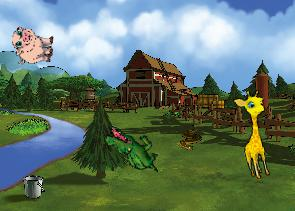crocodile: (99, 124, 166, 174)
giraffe: (231, 87, 281, 181)
pig: (10, 25, 55, 66)
